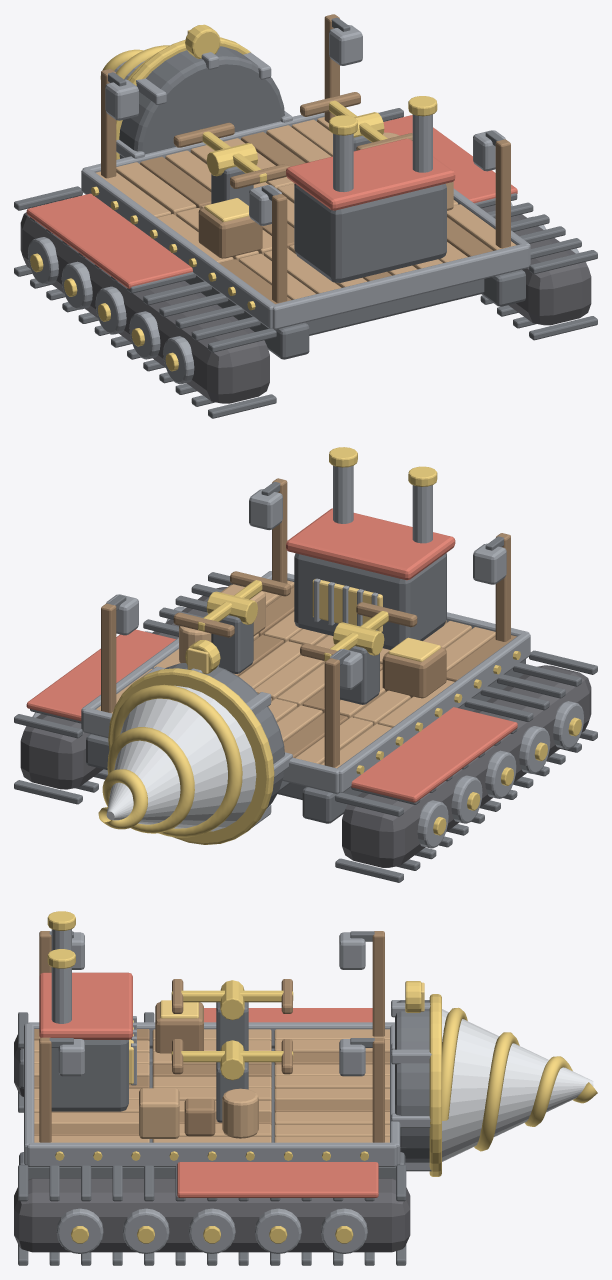
The model's file is DrillRig.fbx.
The picture shows the model from 3 angles, top to bottom: view 1: azimuth 30°, elevation 25°; view 2: azimuth 150°, elevation 25°; view 3: azimuth 270°, elevation 25°; orthographic projection. The views are drawn at different scales.
Parts seen in each view (by area): view 1: TreadL, Deck, DeckTrim, DrillCollar, EngineBlock, TreadR, BreakFenderL, WheelsL, EngineHood, Chassis, BreakFenderR, BreakLantern1 (+13 smaller); view 2: DrillBit, TreadL, Deck, DeckTrim, DrillCollar, TreadR, BreakFenderL, EngineBlock, EngineHood, WheelsL, BreakFenderR, Chassis (+16 smaller); view 3: Deck, TreadR, DrillBit, DeckTrim, WheelsR, DrillCollar, BreakFenderR, EngineHood, EngineBlock, BreakLantern3, BreakLantern4, BreakLantern2 (+17 smaller).
Part boxes in pixels (left/top/right/bottom): TreadL: left=14, top=186, right=276, bottom=418; Deck: left=96, top=117, right=516, bottom=303; DeckTrim: left=81, top=112, right=530, bottom=329; DrillCollar: left=116, top=37, right=292, bottom=159; EngineBlock: left=294, top=183, right=446, bottom=282; TreadR: left=378, top=108, right=597, bottom=340; BreakFenderL: left=26, top=193, right=192, bottom=288; WheelsL: left=28, top=237, right=194, bottom=384; EngineHood: left=286, top=138, right=455, bottom=210; Chassis: left=185, top=269, right=525, bottom=359; BreakFenderR: left=383, top=115, right=517, bottom=203; BreakLantern1: left=249, top=185, right=287, bottom=302; DrillBit: left=98, top=684, right=256, bottom=837; TreadL: left=335, top=650, right=597, bottom=882; Deck: left=96, top=580, right=516, bottom=768; DeckTrim: left=81, top=571, right=530, bottom=793; DrillCollar: left=108, top=663, right=292, bottom=844; TreadR: left=14, top=572, right=244, bottom=804; BreakFenderL: left=351, top=707, right=517, bottom=802; EngineBlock: left=294, top=553, right=446, bottom=649; EngineHood: left=286, top=508, right=455, bottom=580; WheelsL: left=417, top=701, right=583, bottom=848; BreakFenderR: left=26, top=629, right=175, bottom=721; Chassis: left=86, top=659, right=525, bottom=823; Deck: left=34, top=1029, right=389, bottom=1142; TreadR: left=14, top=1165, right=410, bottom=1265; DrillBit: left=442, top=1007, right=597, bottom=1161; DeckTrim: left=24, top=1022, right=400, bottom=1166; WheelsR: left=56, top=1208, right=367, bottom=1253; DrillCollar: left=391, top=994, right=441, bottom=1176; BreakFenderR: left=177, top=1162, right=378, bottom=1197; EngineHood: left=39, top=972, right=132, bottom=1039; EngineBlock: left=51, top=1040, right=128, bottom=1111; BreakLantern3: left=339, top=931, right=384, bottom=1036; BreakLantern4: left=339, top=1037, right=384, bottom=1142; BreakLantern2: left=39, top=1037, right=84, bottom=1142.
Size of the model in its own units: 22.6 by 12.97 by 28.73.
